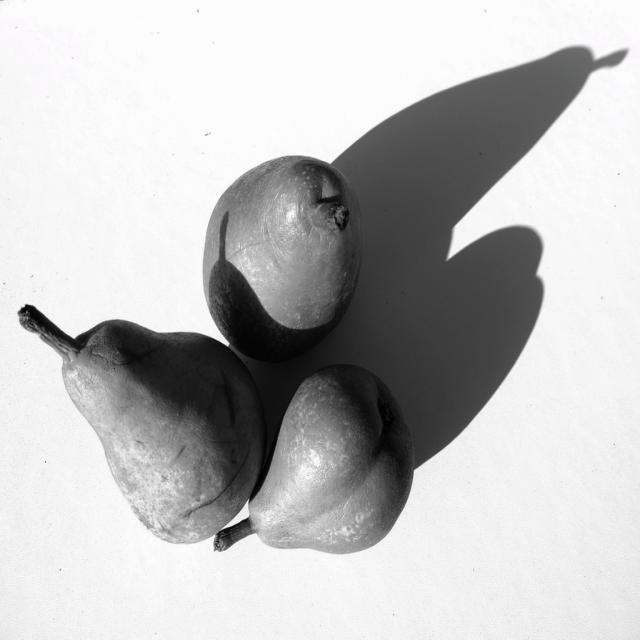pear: (16, 297, 268, 544), (216, 362, 415, 558), (200, 153, 363, 361)
